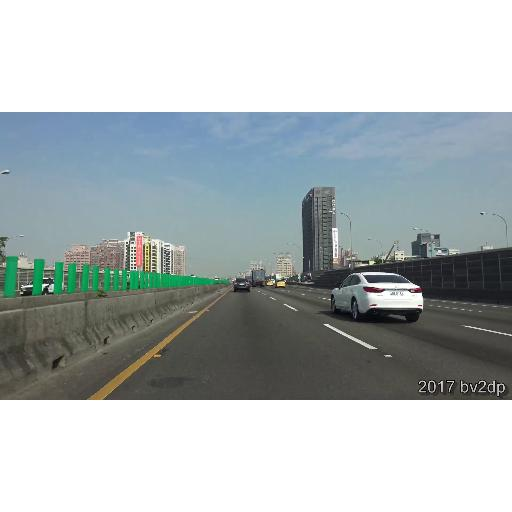Car: (330, 272, 424, 324), (252, 270, 264, 288), (234, 280, 250, 292), (274, 280, 286, 288), (266, 280, 272, 286)
